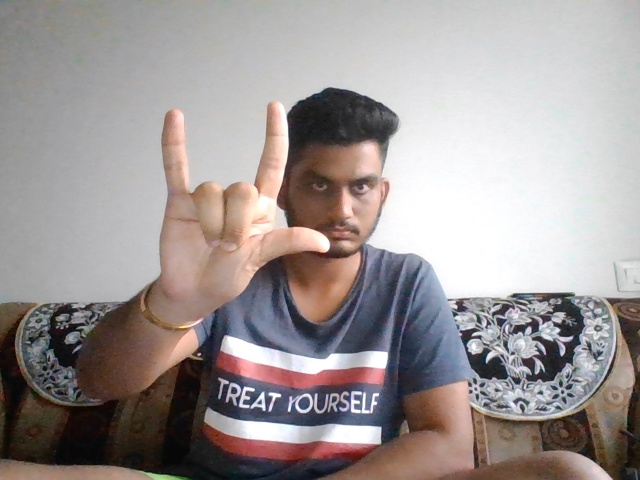I Love You: (135, 97, 334, 301)
